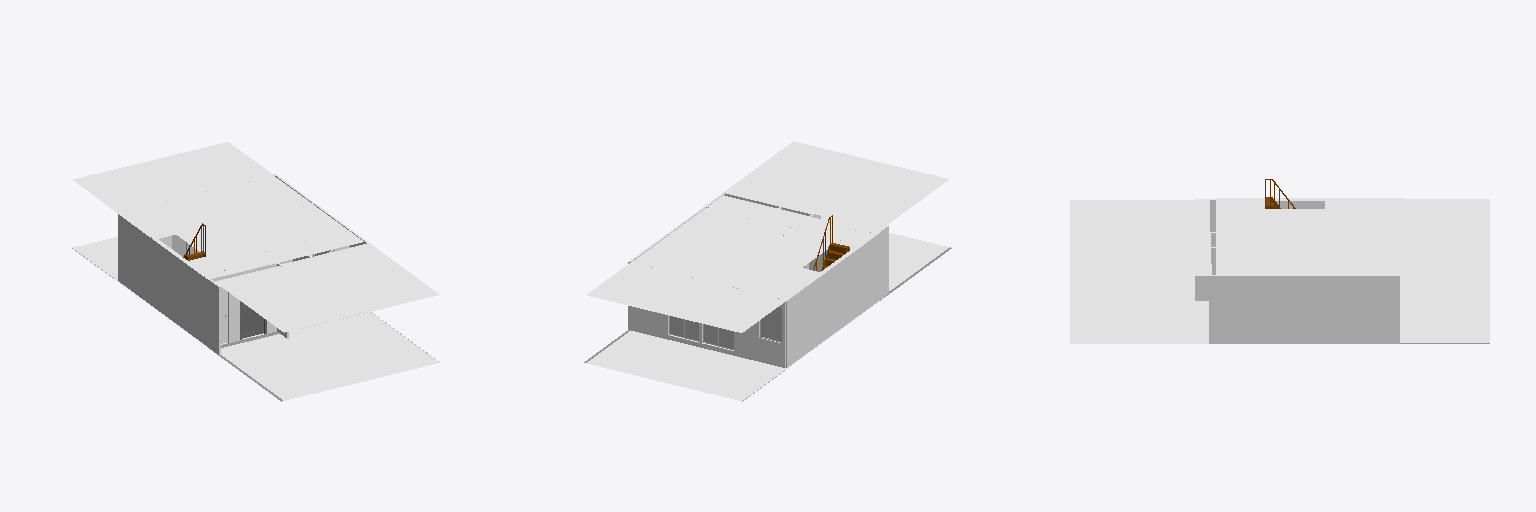
File: piso1.obj
3 renders of one model, left to right at view 1: azimuth 30°, elevation 25°; view 2: azimuth 150°, elevation 25°; view 3: azimuth 270°, elevation 25°, orthographic.
Visible parts, largest first — view 1: room_23_135, room_25_139, room_25_138, room_24_137, wall_15_88, wall_20_118, room_24_136, wall_12_71, sweethome3d_opening_on_hinge_1_doorOutside_169, wall_14_83; view 2: room_23_135, room_25_139, room_24_137, room_24_136, wall_15_88, wall_1_4, room_25_138, wall_20_118, sweethome3d_window_pane_213; view 3: wall_2_10, room_23_135, room_25_139, room_25_138, room_24_137, room_24_136.
Boxes of the visible parts, box(x1,y1,x2,y2) form: room_23_135: box(116, 176, 363, 279); room_25_139: box(215, 244, 439, 332); room_25_138: box(221, 312, 439, 400); room_24_137: box(73, 142, 273, 212); wall_15_88: box(118, 214, 184, 329); wall_20_118: box(185, 263, 207, 346); room_24_136: box(73, 237, 117, 280); wall_12_71: box(231, 263, 276, 341); sweethome3d_opening_on_hinge_1_doorOutside_169: box(242, 302, 263, 338); wall_14_83: box(212, 282, 219, 355); room_23_135: box(633, 195, 878, 300); room_25_139: box(725, 141, 948, 229); room_24_137: box(587, 261, 786, 332); room_24_136: box(587, 331, 786, 400); wall_15_88: box(786, 252, 854, 367); wall_1_4: box(628, 262, 785, 367); room_25_138: box(821, 216, 949, 290); wall_20_118: box(855, 235, 877, 317); sweethome3d_window_pane_213: box(761, 307, 781, 341); wall_2_10: box(1209, 276, 1399, 343); room_23_135: box(1216, 198, 1403, 274); room_25_139: box(1070, 200, 1209, 275); room_25_138: box(1070, 276, 1208, 343); room_24_137: box(1397, 199, 1489, 274); room_24_136: box(1400, 275, 1489, 342).
Size of the model in its own units: 612 by 362 by 1397.